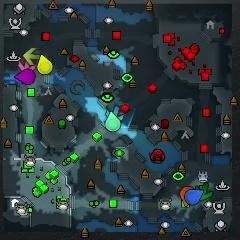p1: (185, 188, 204, 206)
p2: (105, 112, 121, 131)
p3: (14, 69, 36, 85)
p4: (37, 55, 53, 74)
p5: (179, 186, 193, 206)
x1: (18, 59, 37, 72)
x2: (24, 48, 41, 64)
x3: (106, 106, 124, 120)
x4: (195, 182, 213, 200)
